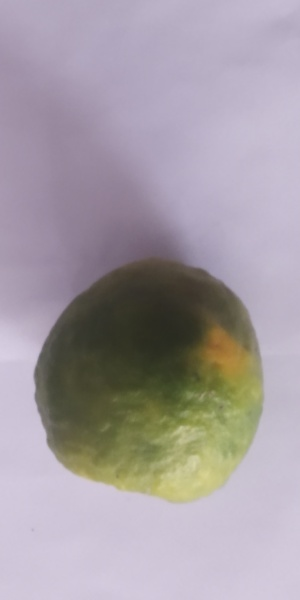BAD: (30, 251, 265, 501)
